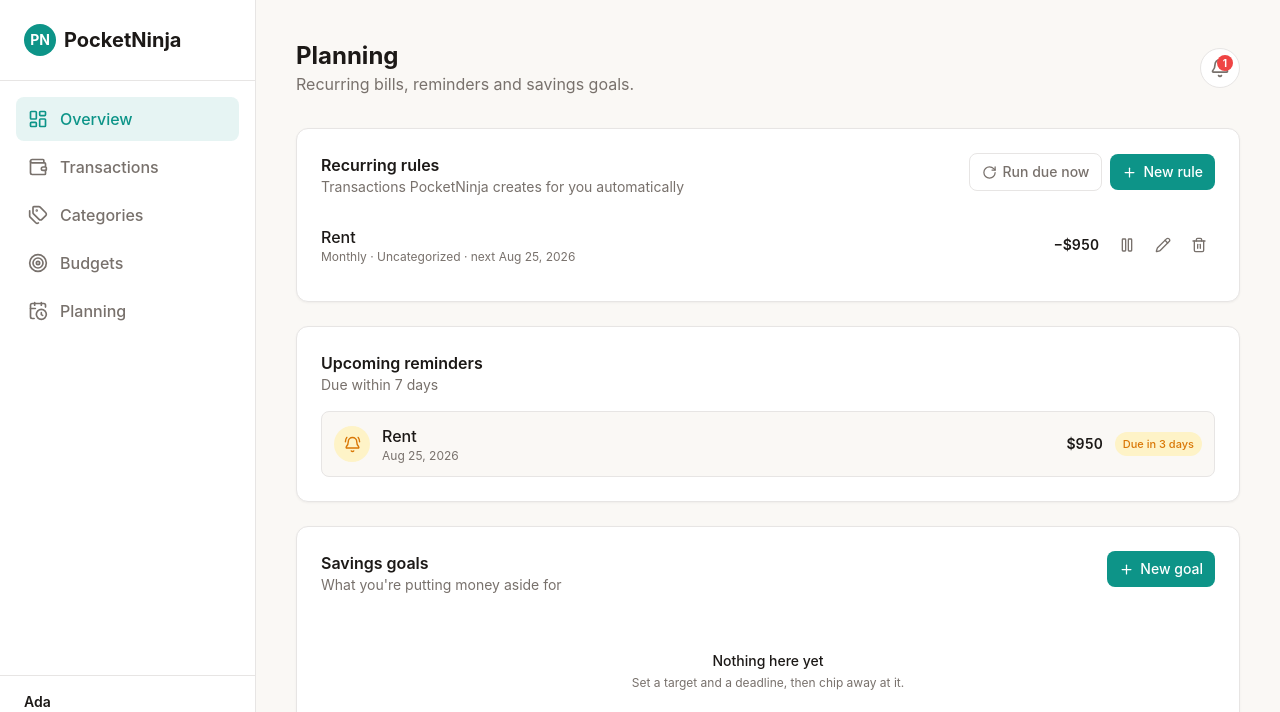
PlanningPage › Run due now uses singular wording for a single transaction
Step 1. Click the button "Run due now" → (1035, 172), box [968,153,1102,191]
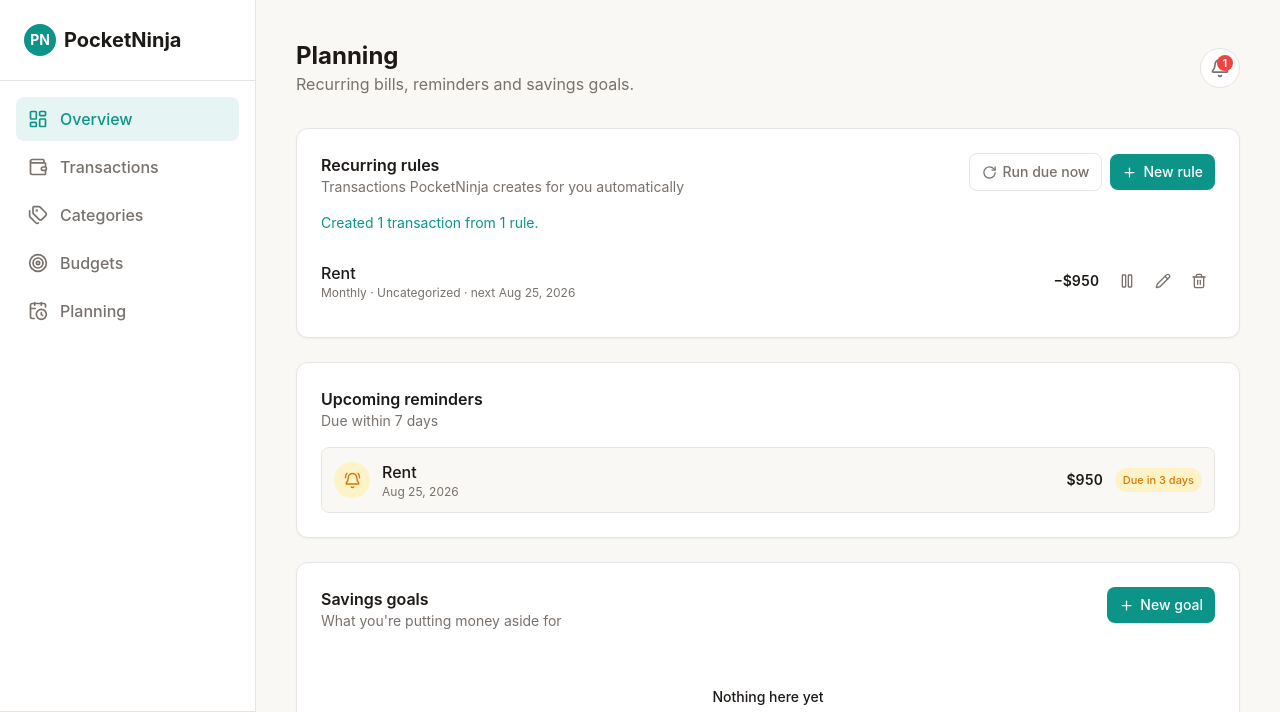
Check: the text "Created 1 transaction from 1 rule." is shown, box [321,214,539,231]
